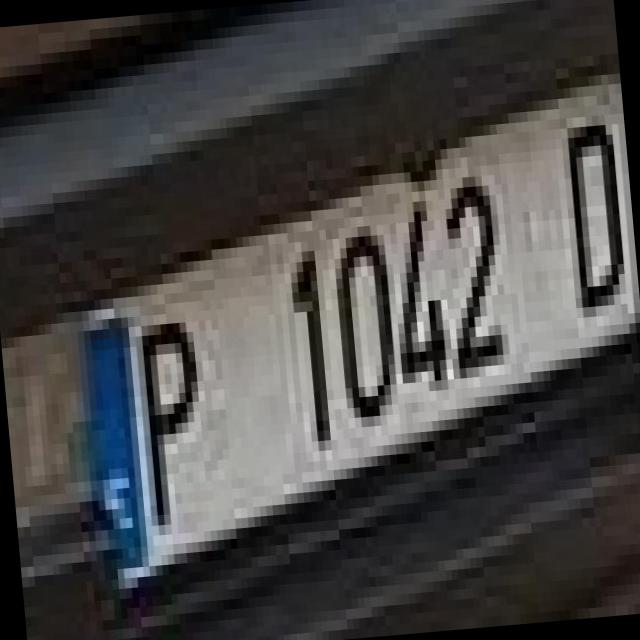0: (309, 194, 399, 420)
1: (260, 219, 344, 444)
2: (422, 154, 510, 370)
4: (365, 170, 447, 385)
D: (538, 94, 627, 309)
P: (106, 290, 216, 528)
